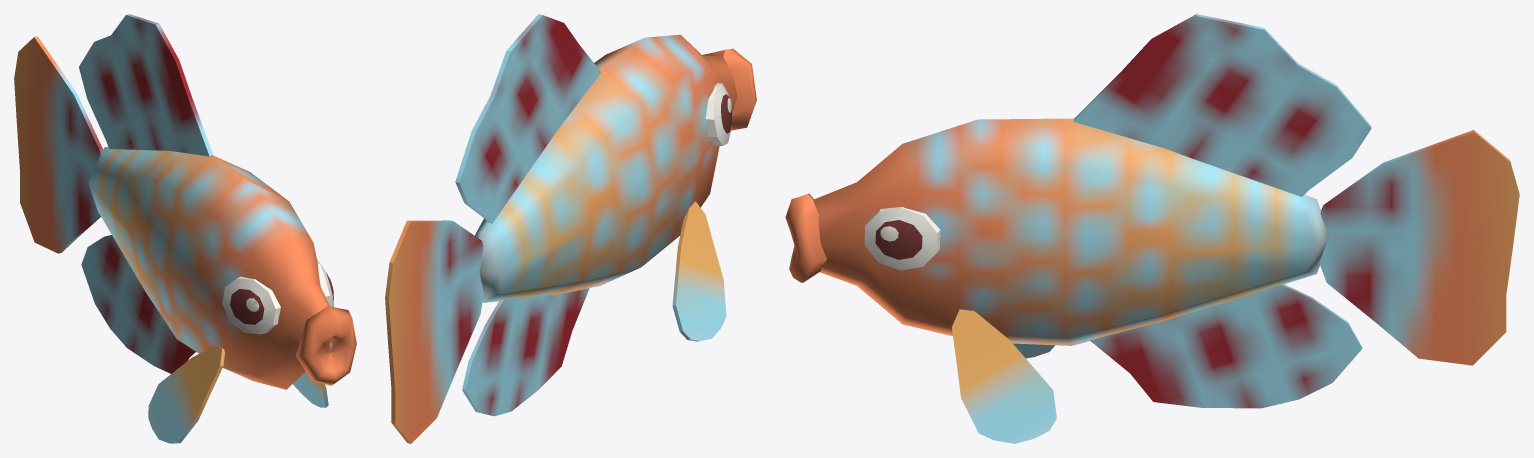
The picture shows the model from 3 angles, left to right: view 1: azimuth 30°, elevation 25°; view 2: azimuth 150°, elevation 25°; view 3: azimuth 270°, elevation 25°; orthographic projection. The views are drawn at different scales.
Visible parts, largest first — view 1: Fish_Killifish; view 2: Fish_Killifish; view 3: Fish_Killifish.
Boxes of the visible parts, left/top/right/bottom form: Fish_Killifish: left=14, top=14, right=356, bottom=443; Fish_Killifish: left=385, top=14, right=756, bottom=443; Fish_Killifish: left=785, top=14, right=1519, bottom=443.
Size of the model in its own units: 5.41 by 11.36 by 19.26.
